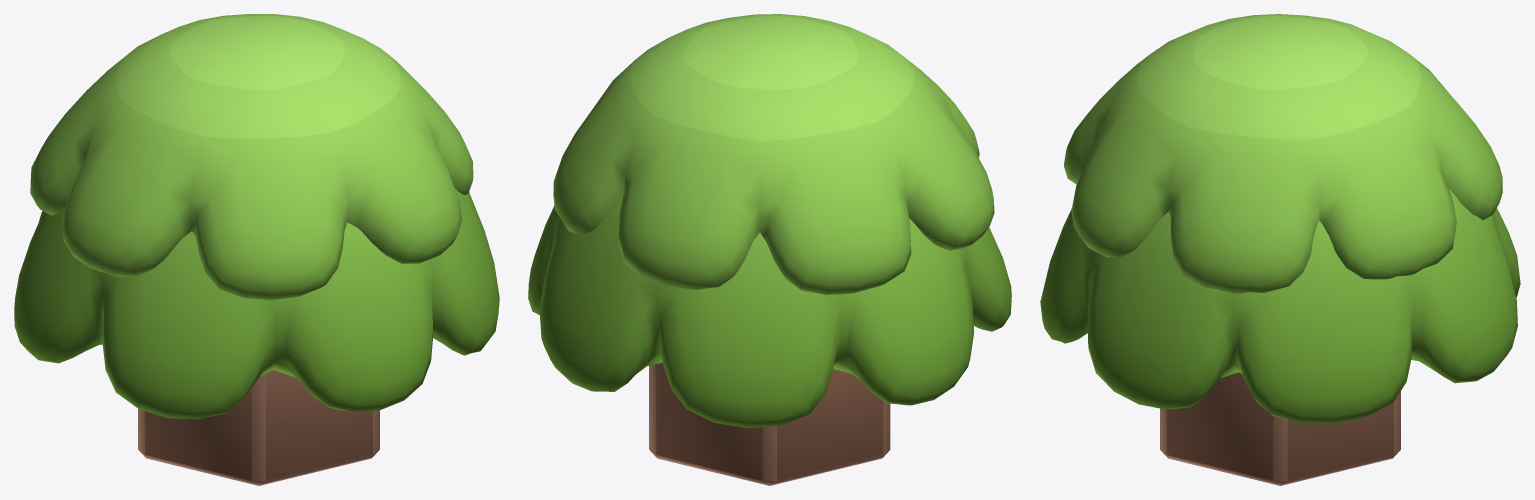
Rendered from big_leafs_tree_2.fbx.
3 views of the same model, side by side, from view 1: azimuth 30°, elevation 25°; view 2: azimuth 150°, elevation 25°; view 3: azimuth 270°, elevation 25° (orthographic).
Parts seen in each view (by area): view 1: big_leafs_tree_2; view 2: big_leafs_tree_2; view 3: big_leafs_tree_2.
Part boxes in pixels (left/top/right/bottom): big_leafs_tree_2: left=14, top=14, right=499, bottom=485; big_leafs_tree_2: left=528, top=14, right=1011, bottom=485; big_leafs_tree_2: left=1040, top=14, right=1520, bottom=485.
Bounding box in the file's own units: 237 × 212 × 237.
